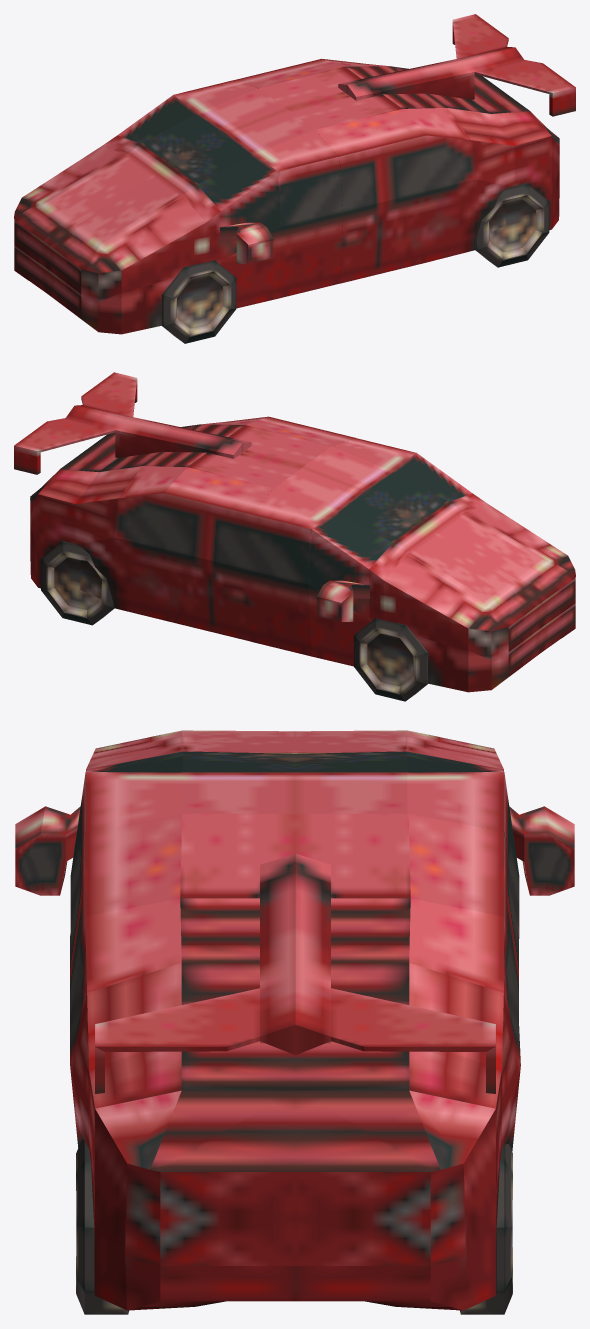
File: Poly_SF_Outside_B_Red_Car_01.obj
The picture shows the model from 3 angles, top to bottom: view 1: azimuth 30°, elevation 25°; view 2: azimuth 150°, elevation 25°; view 3: azimuth 270°, elevation 25°; orthographic projection. The views are drawn at different scales.
Parts seen in each view (by area): view 1: Cube.001, Cube.003, Cube.002, Cube.005; view 2: Cube.001, Cube.003, Cube.002, Cube.005; view 3: Cube.003, Cube.001, Cube.005.
Part boxes in pixels (<box>): Cube.001: <box>14,80,343,334</box>; Cube.003: <box>235,14,575,283</box>; Cube.002: <box>161,260,236,343</box>; Cube.005: <box>475,183,549,267</box>; Cube.001: <box>247,438,575,692</box>; Cube.003: <box>14,372,355,641</box>; Cube.002: <box>354,618,428,701</box>; Cube.005: <box>41,541,114,625</box>; Cube.003: <box>70,813,520,1310</box>; Cube.001: <box>15,730,574,938</box>; Cube.005: <box>76,1140,512,1314</box>.
Size of the model in its own units: 2.2 by 0.7404 by 1.12.
1 material, 1 textured.
